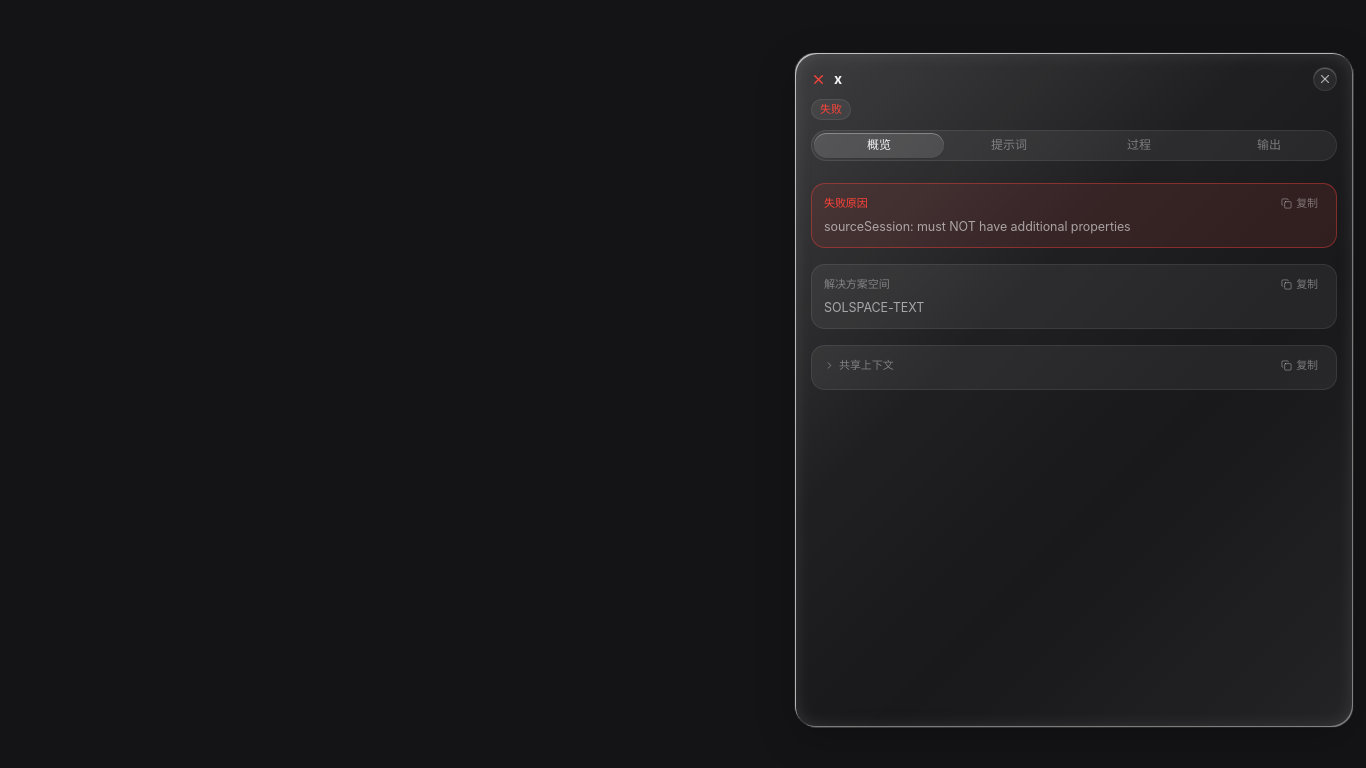
SubagentSheet › overview shows failure reason, solution space and shared context from the row alone
Expected: the text "sourceSession: must NOT have additional properties" is shown, [824,219,1131,234]
Expected: the text "SOLSPACE-TEXT" is shown, [824,300,924,315]
Step 1. Click the button "共享上下文" → click(859, 366), box [824,358,894,374]
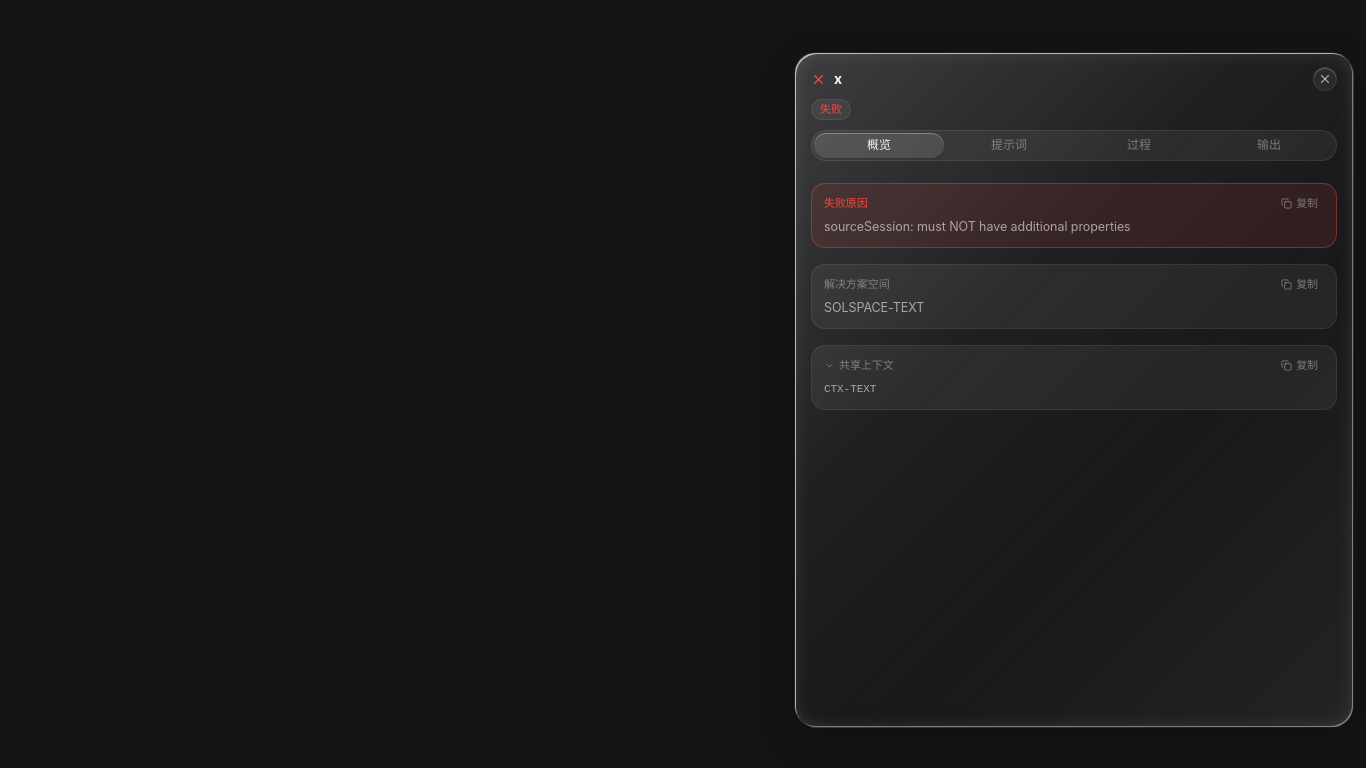
Expected: the text "CTX-TEXT" is shown, [824,384,876,396]
